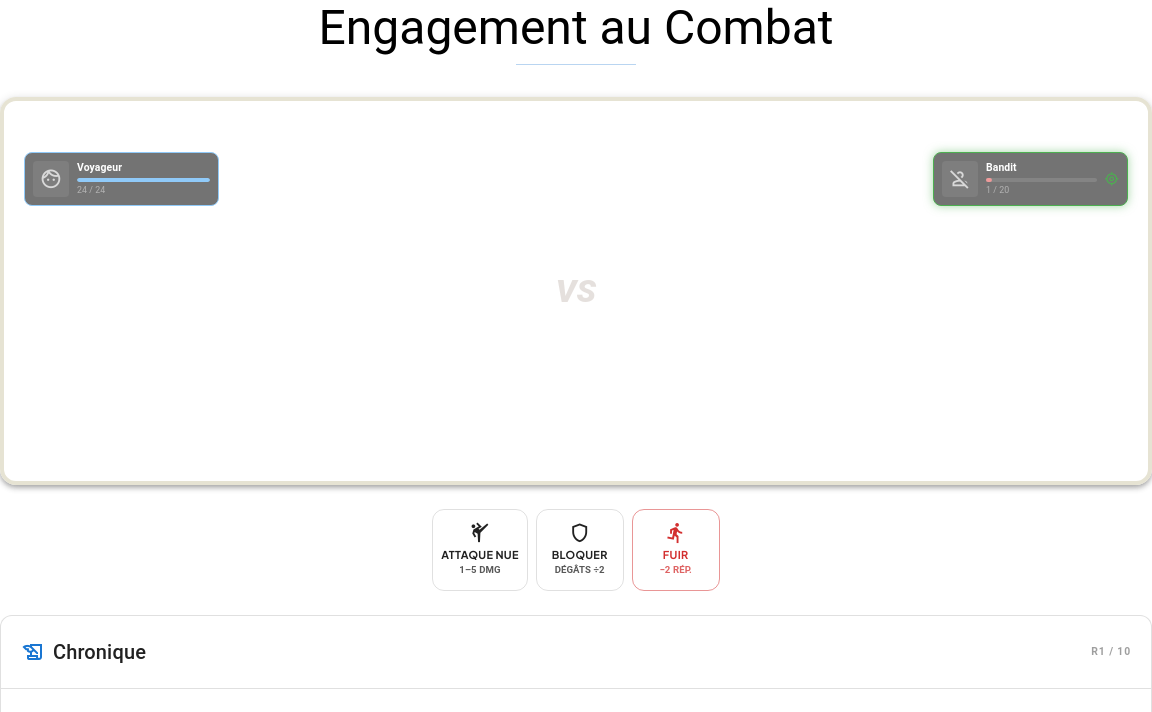
Test: un PNJ vaincu ailleurs pendant le combat ne rapporte aucun nouveau butin
Click the button "Attaque Nue 1–5 dmg" at (480, 550), box top-left (432, 509), bottom-right (528, 591)
(page scrolled)
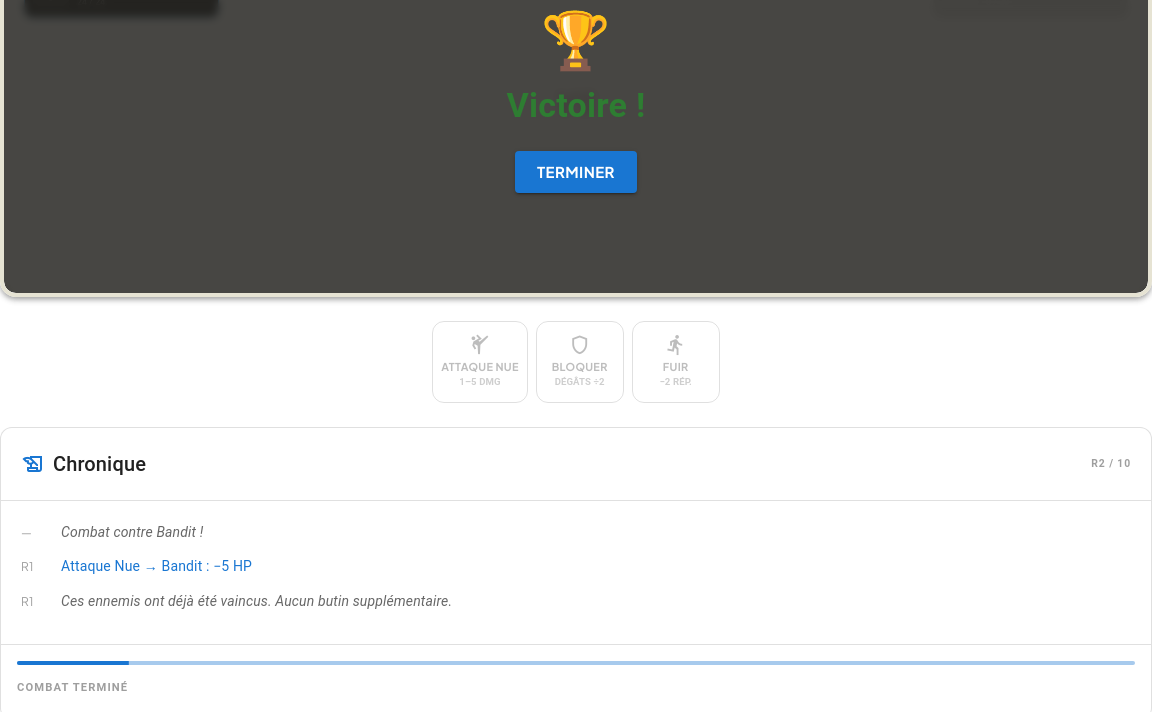
Now the text "Aucun butin supplémentaire" is shown, box top-left (61, 593), bottom-right (452, 609)
